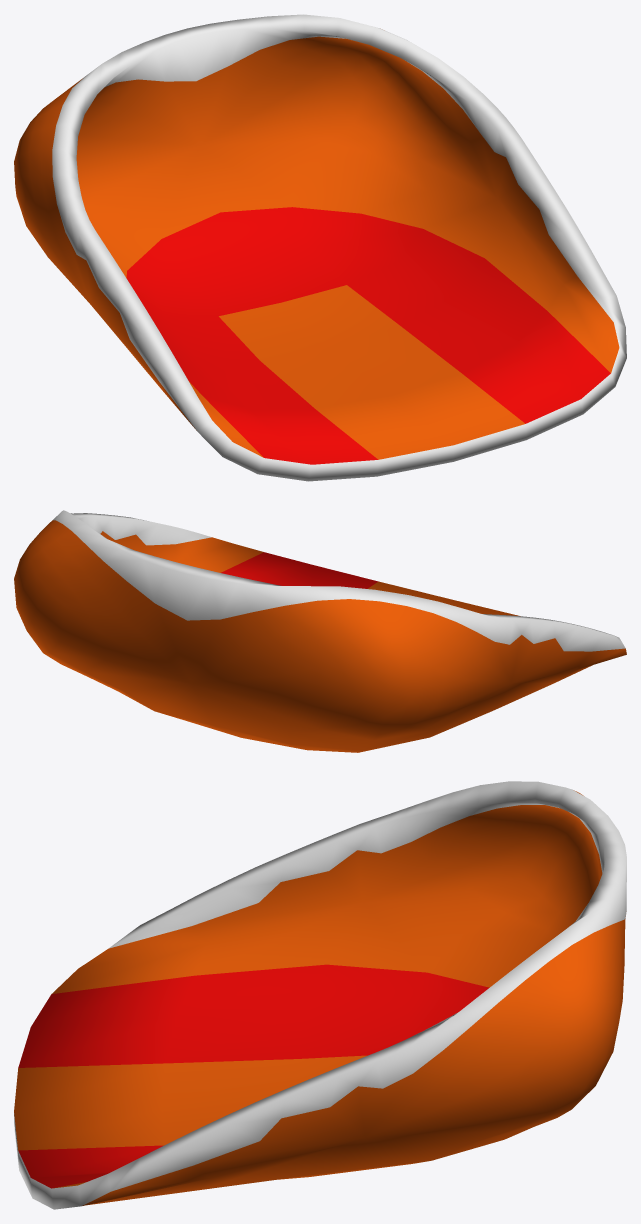
The model's file is CheckPoint.fbx.
The picture shows the model from 3 angles, top to bottom: view 1: azimuth 30°, elevation 25°; view 2: azimuth 150°, elevation 25°; view 3: azimuth 270°, elevation 25°; orthographic projection. The views are drawn at different scales.
Visible parts, largest first — view 1: Cylinder.001; view 2: Cylinder.001; view 3: Cylinder.001.
Boxes of the visible parts, left/top/right/bottom form: Cylinder.001: left=14, top=14, right=626, bottom=481; Cylinder.001: left=14, top=510, right=626, bottom=752; Cylinder.001: left=14, top=781, right=626, bottom=1209.
Size of the model in its own units: 406 by 213 by 431.
